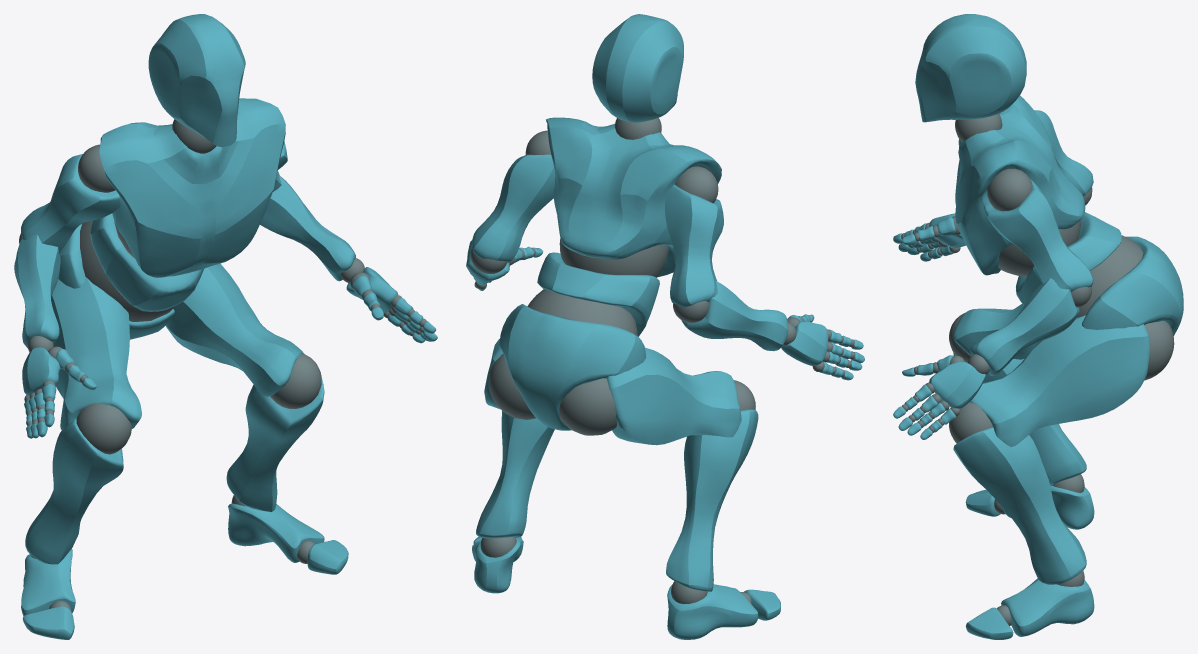
File: YBot_AthleticPose.fbx
3 views of the same model, side by side, from view 1: azimuth 30°, elevation 25°; view 2: azimuth 150°, elevation 25°; view 3: azimuth 270°, elevation 25° (orthographic). The views are drawn at different scales.
Parts seen in each view (by area): view 1: Alpha_Surface, Alpha_Joints; view 2: Alpha_Surface, Alpha_Joints; view 3: Alpha_Surface, Alpha_Joints.
Part boxes in pixels (box(x1,y1,x2,y2)): Alpha_Surface: box(14, 14, 437, 639); Alpha_Joints: box(19, 119, 426, 611); Alpha_Surface: box(466, 14, 864, 639); Alpha_Joints: box(470, 118, 855, 603); Alpha_Surface: box(893, 14, 1183, 639); Alpha_Joints: box(901, 113, 1174, 625).
Size of the model in its own units: 98.27 by 138 by 65.42.
